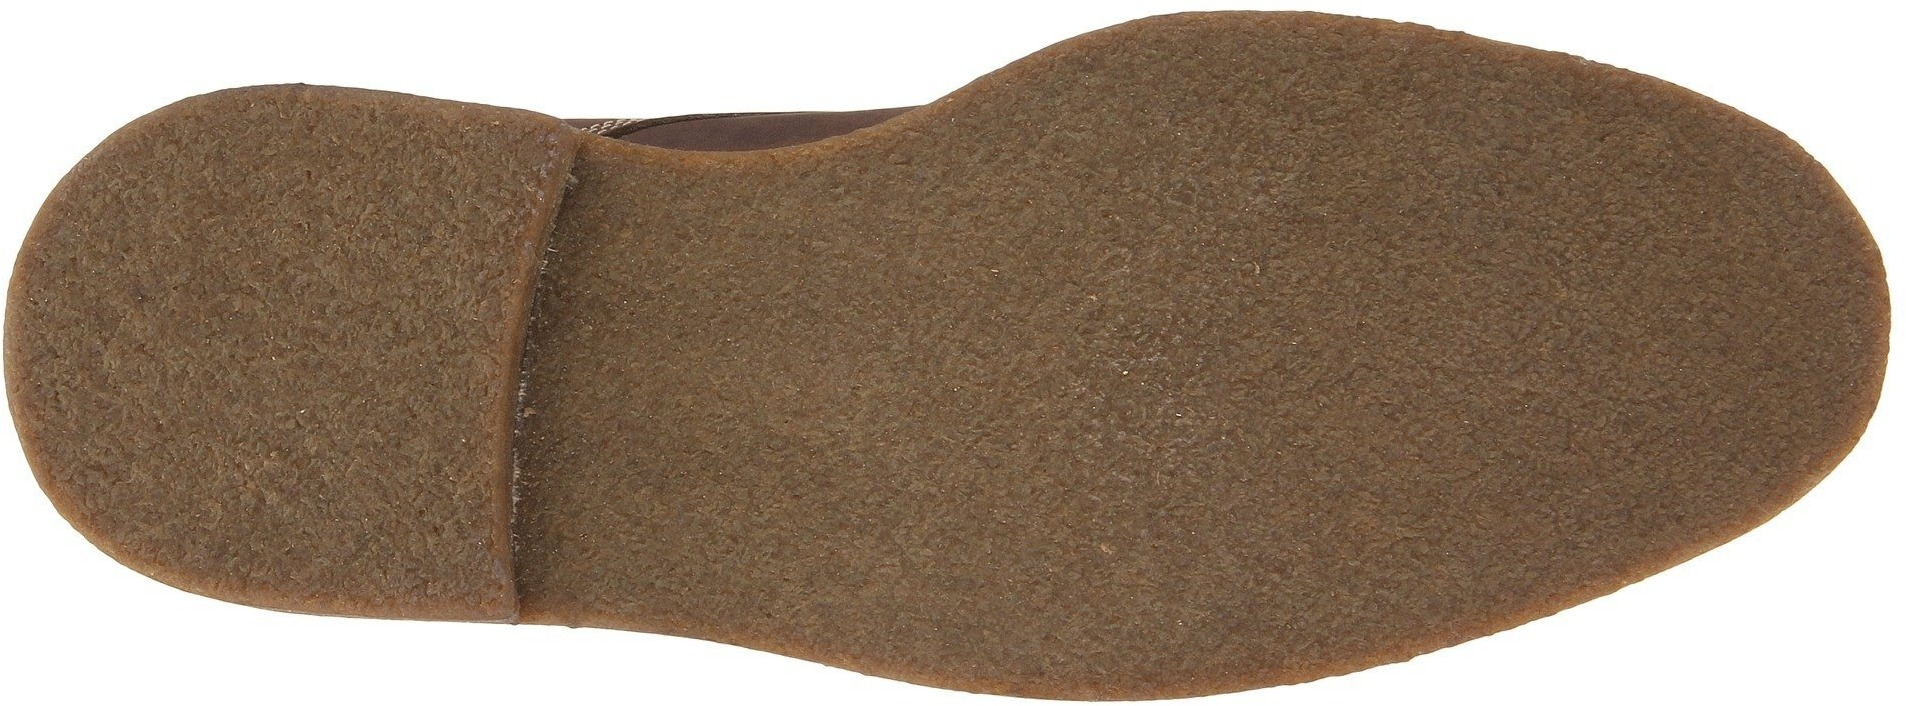exclude: (504, 30, 999, 705)
other: (1231, 56, 1605, 386), (893, 143, 1189, 462), (600, 170, 870, 435), (126, 142, 389, 394), (1206, 417, 1467, 636), (1624, 194, 1850, 401), (802, 444, 1008, 639), (256, 418, 440, 578)
